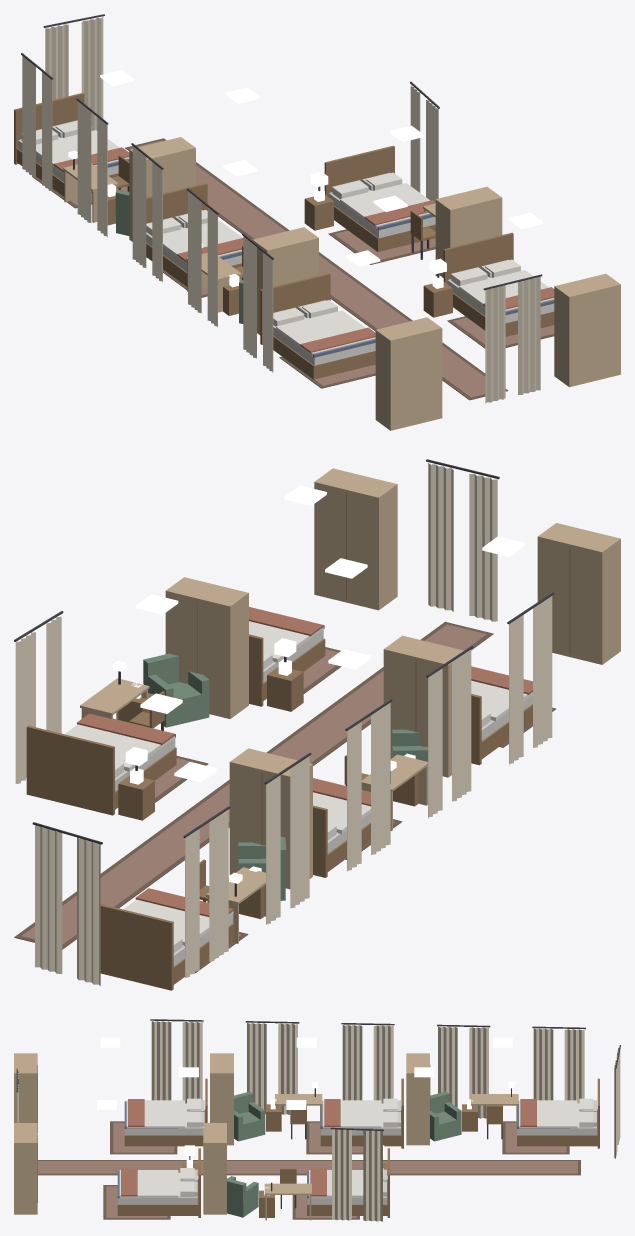
File: fine-s3.glb
3 views of the same model, one above another, from view 1: azimuth 30°, elevation 25°; view 2: azimuth 150°, elevation 25°; view 3: azimuth 270°, elevation 25° (orthographic). The views are drawn at different scales.
Visible parts, largest first — view 1: soft-s3, dresser.014, dresser.011, bed-frame.014, bed-frame.010, dresser.010, bed-frame.011, dresser.013, dresser.012, bed-frame.013, bed-frame.012, writing-desk.007 (+6 smaller); view 2: soft-s3, dresser.011, dresser.014, dresser.010, bed-frame.010, bed-frame.012, dresser.013, dresser.012, lounge-chair.006, bed-frame.011, bed-frame.013, bed-frame.014 (+7 smaller); view 3: soft-s3, dresser.010, dresser.011, dresser.012, bed-frame.012, bed-frame.011, bed-frame.014, dresser.013, dresser.014, lounge-chair.007, lounge-chair.008, bed-frame.013 (+11 smaller).
Part boxes in pixels (left/top/right/bottom): soft-s3: left=21, top=14, right=554, bottom=403; dresser.014: left=375, top=317, right=442, bottom=430; dresser.011: left=554, top=273, right=620, bottom=387; bed-frame.014: left=260, top=273, right=375, bottom=379; bed-frame.010: left=324, top=145, right=435, bottom=251; dresser.010: left=435, top=186, right=502, bottom=277; bed-frame.011: left=443, top=232, right=554, bottom=336; dresser.013: left=252, top=227, right=318, bottom=334; dresser.012: left=129, top=137, right=195, bottom=241; bed-frame.013: left=146, top=183, right=241, bottom=286; bed-frame.012: left=14, top=93, right=129, bottom=196; writing-desk.007: left=63, top=150, right=118, bottom=222; soft-s3: left=14, top=459, right=555, bottom=985; dresser.011: left=314, top=468, right=397, bottom=610; dresser.014: left=537, top=523, right=620, bottom=664; dresser.010: left=165, top=577, right=248, bottom=718; bed-frame.010: left=26, top=725, right=176, bottom=815; bed-frame.012: left=100, top=904, right=234, bottom=990; dresser.013: left=383, top=635, right=463, bottom=777; dresser.012: left=229, top=748, right=312, bottom=889; lounge-chair.006: left=143, top=653, right=209, bottom=727; bed-frame.011: left=249, top=625, right=325, bottom=706; bed-frame.013: left=313, top=805, right=370, bottom=877; bed-frame.014: left=471, top=694, right=532, bottom=765; soft-s3: left=16, top=1019, right=620, bottom=1221; dresser.010: left=203, top=1123, right=226, bottom=1214; dresser.011: left=14, top=1123, right=37, bottom=1214; dresser.012: left=406, top=1053, right=430, bottom=1145; bed-frame.012: left=517, top=1078, right=599, bottom=1148; bed-frame.011: left=117, top=1148, right=200, bottom=1217; bed-frame.014: left=124, top=1078, right=207, bottom=1146; dresser.013: left=210, top=1053, right=233, bottom=1145; dresser.014: left=14, top=1053, right=37, bottom=1133; lounge-chair.007: left=430, top=1091, right=461, bottom=1141; lounge-chair.008: left=234, top=1091, right=265, bottom=1141; bed-frame.013: left=320, top=1078, right=403, bottom=1148.
Bounding box in the file's own units: 6.63 × 2.69 × 15.33.
